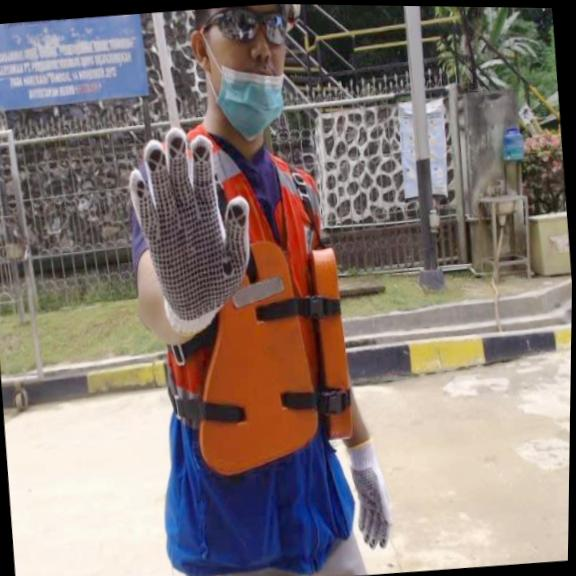safety_vest: (182, 249, 358, 488)
